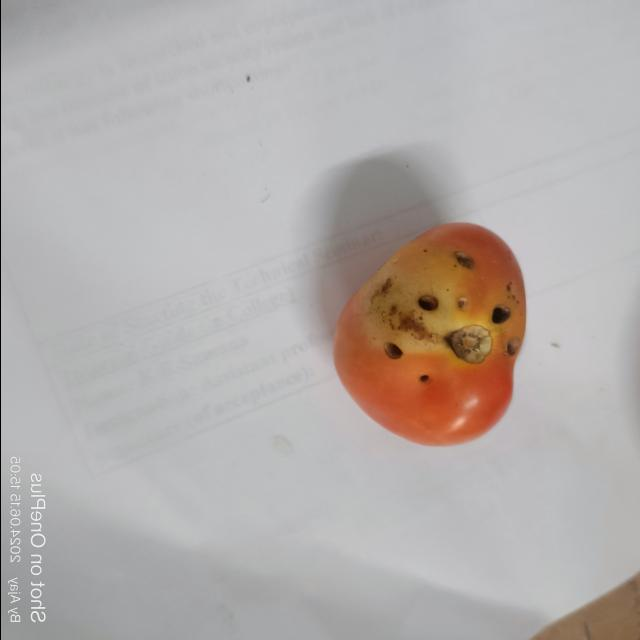fruitworm_bore: (378, 341, 438, 395), (487, 305, 522, 359), (415, 286, 443, 320), (452, 246, 478, 276)
